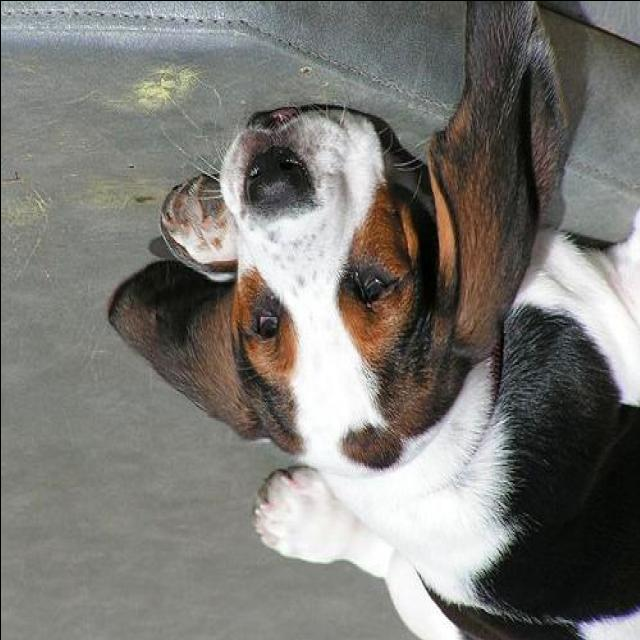basset: (106, 3, 638, 640)
